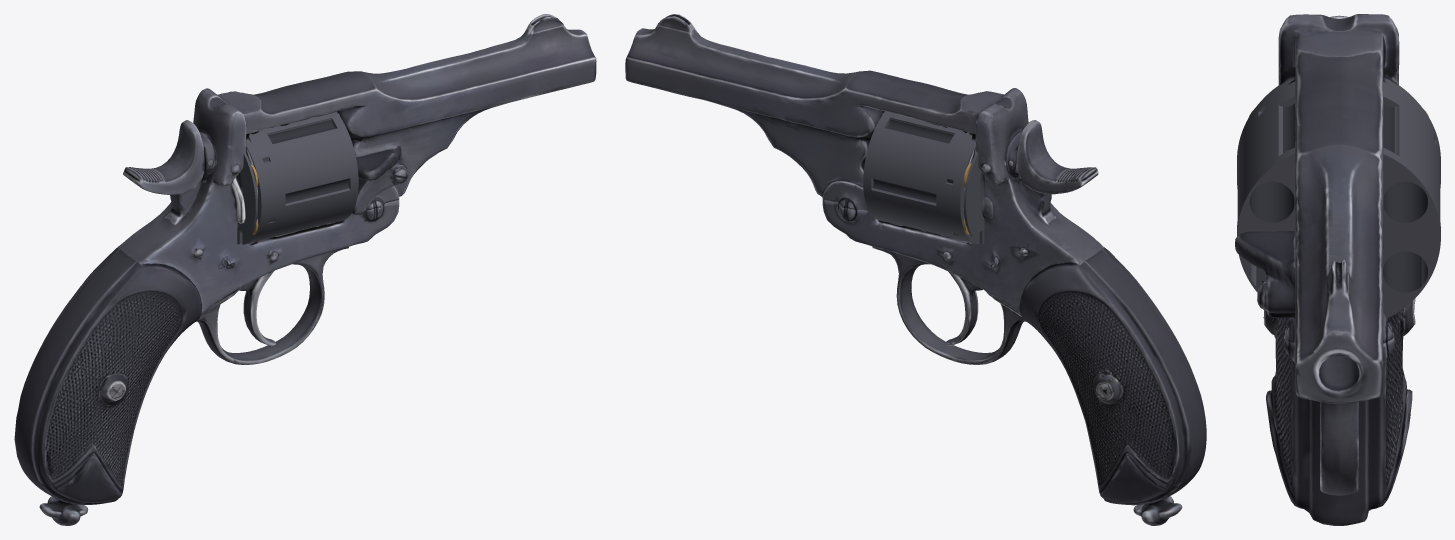
The model's file is revolver_parts.glb.
The picture shows the model from 3 angles, left to right: view 1: azimuth 30°, elevation 25°; view 2: azimuth 150°, elevation 25°; view 3: azimuth 270°, elevation 25°; orthographic projection. The views are drawn at different scales.
Parts seen in each view (by area): view 1: Frame, BarrelAssembly, Cylinder, Hammer, Trigger; view 2: Frame, BarrelAssembly, Cylinder, Hammer, Trigger; view 3: BarrelAssembly, Frame, Cylinder.
Part boxes in pixels (x1,y1,x2,y2): Frame: (14, 88, 399, 525); BarrelAssembly: (217, 14, 596, 214); Cylinder: (242, 111, 358, 244); Hammer: (123, 120, 215, 194); Trigger: (239, 271, 275, 345); Frame: (822, 88, 1206, 525); BarrelAssembly: (625, 14, 1004, 210); Cylinder: (863, 111, 979, 244); Hammer: (1005, 120, 1098, 194); Trigger: (945, 271, 982, 345); BarrelAssembly: (1235, 31, 1397, 404); Frame: (1263, 14, 1415, 525); Cylinder: (1237, 79, 1440, 319).
Size of the model in its own units: 0.9811 by 0.6507 by 0.1928.
Materials: 7 (1 with a texture image).
